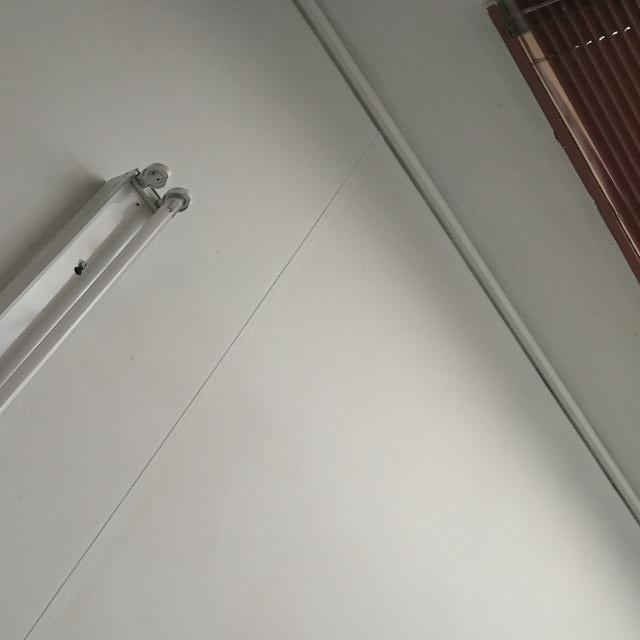fluorescent tube: (0, 138, 222, 640)
